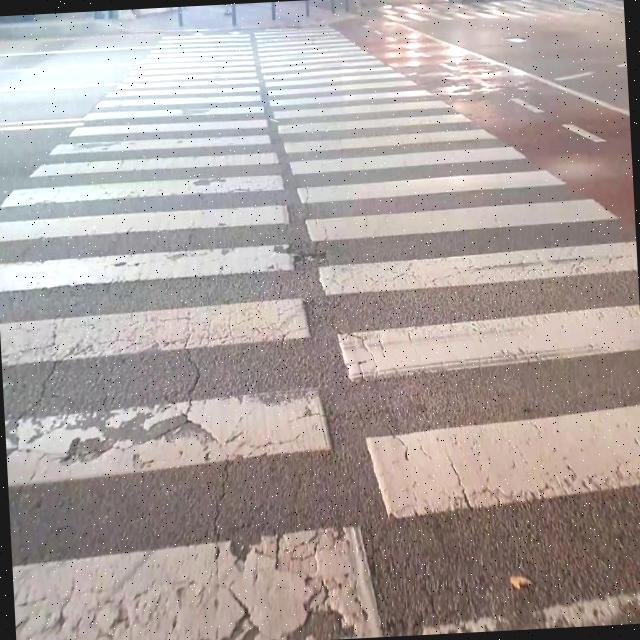crosswalk: (0, 23, 640, 640)
